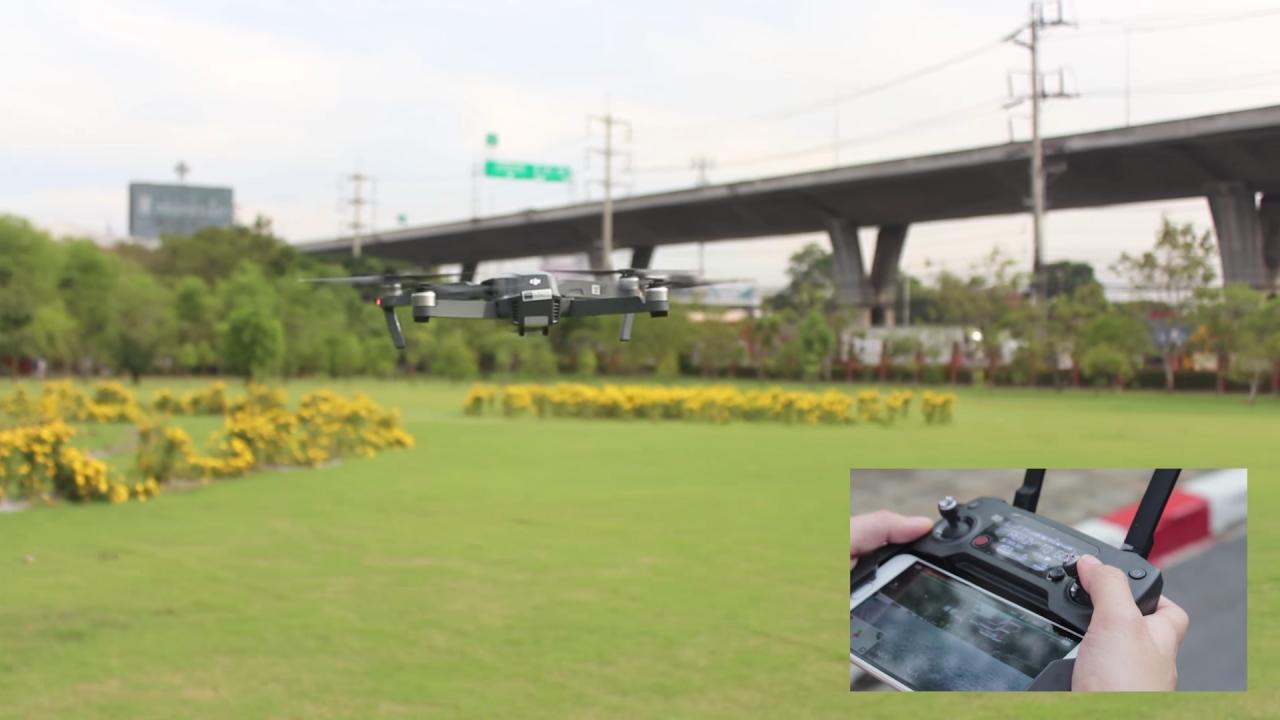Drone: (286, 253, 758, 360)
